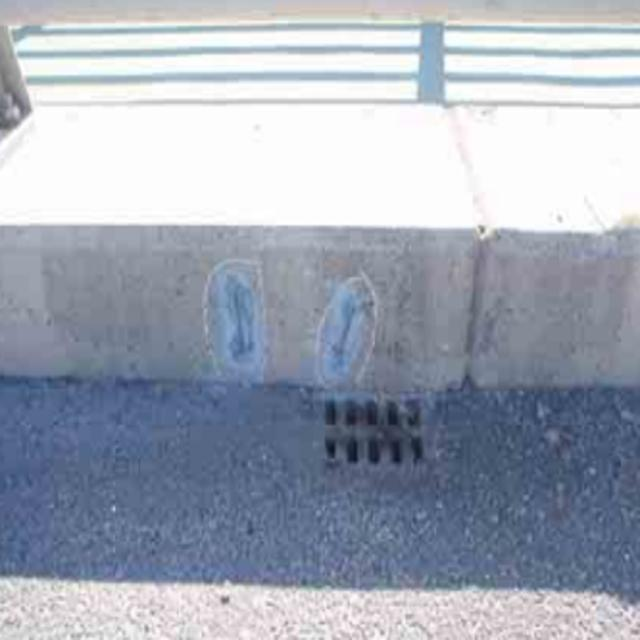spalling: (201, 254, 396, 389)
